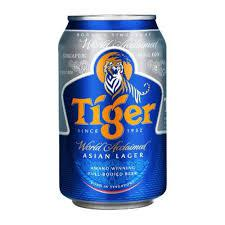beer: (55, 14, 168, 210)
